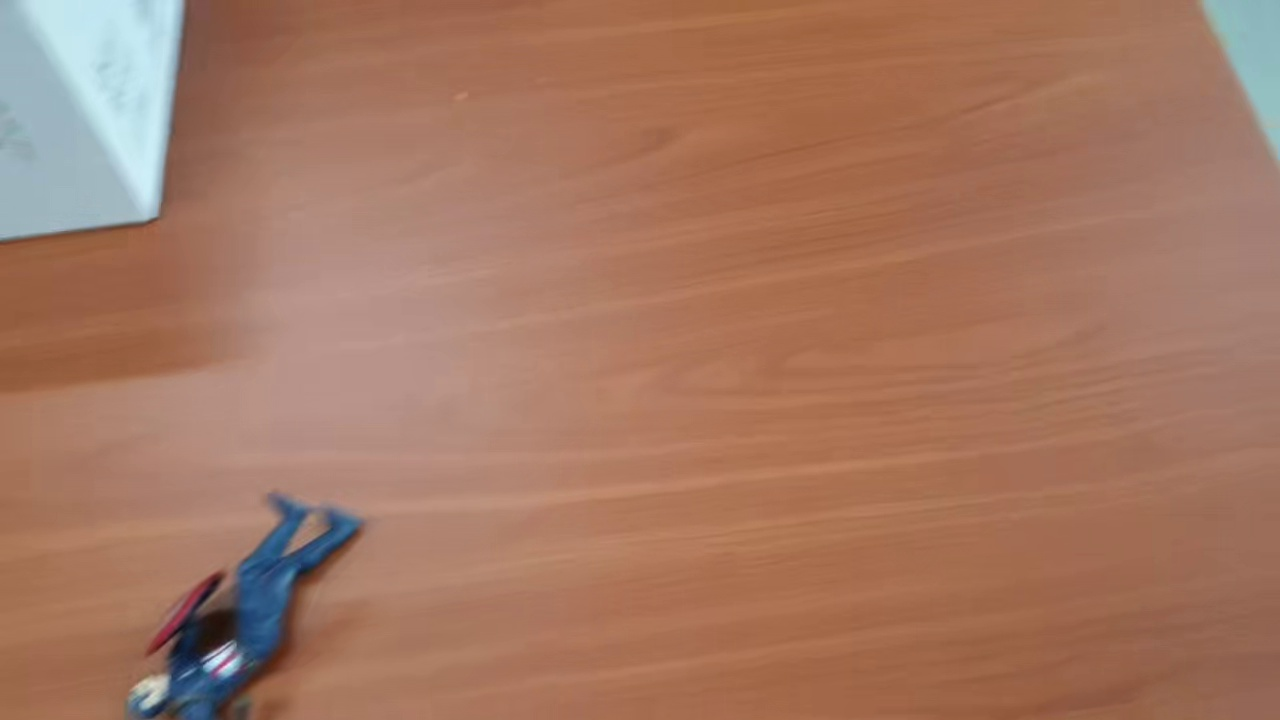people: (126, 483, 369, 720)
